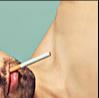Cigarette: (10, 51, 52, 72)
